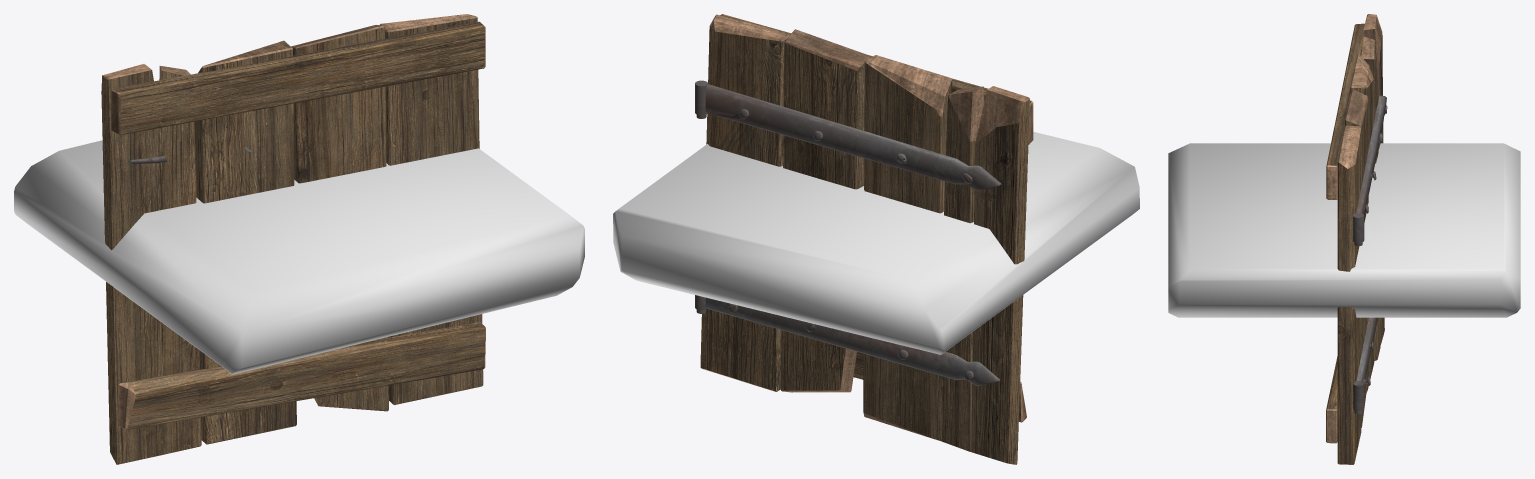
Rendered from SM_Wall_Window_C_P4_.fbx.
3 views of the same model, side by side, from view 1: azimuth 30°, elevation 25°; view 2: azimuth 150°, elevation 25°; view 3: azimuth 270°, elevation 25° (orthographic). The views are drawn at different scales.
Visible parts, largest first — view 1: SM_Wall_Window_C_P4_, SM_Wall_Window_C_P4__ConvexHulls; view 2: SM_Wall_Window_C_P4_, SM_Wall_Window_C_P4__ConvexHulls; view 3: SM_Wall_Window_C_P4__ConvexHulls, SM_Wall_Window_C_P4_.
Part boxes in pixels (<box>): SM_Wall_Window_C_P4_: <box>101,14,485,464</box>; SM_Wall_Window_C_P4__ConvexHulls: <box>14,140,584,374</box>; SM_Wall_Window_C_P4_: <box>695,14,1033,464</box>; SM_Wall_Window_C_P4__ConvexHulls: <box>613,131,1139,354</box>; SM_Wall_Window_C_P4__ConvexHulls: <box>1168,143,1520,317</box>; SM_Wall_Window_C_P4_: <box>1326,14,1387,464</box>.
Size of the model in its own units: 0.8917 by 0.9242 by 0.9262.
